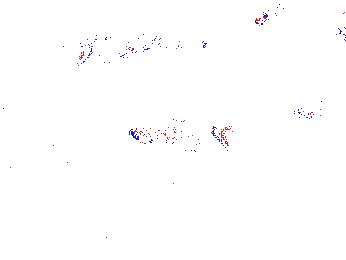X-ray fish: (118, 53, 148, 72)
red belly glassfish: (252, 8, 280, 27), (313, 8, 346, 21)
redtail glassfish: (125, 117, 232, 152), (73, 32, 167, 65), (291, 97, 346, 123), (153, 35, 210, 53)
